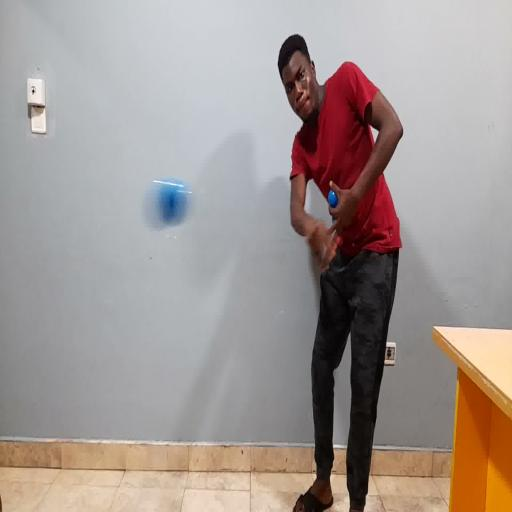plastic-ball: (140, 171, 199, 237)
